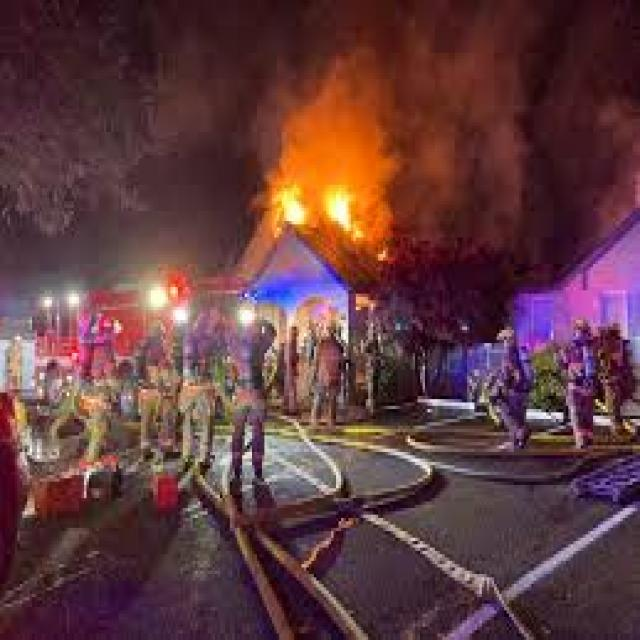fire: (269, 185, 309, 228), (324, 185, 356, 231)
smoke: (408, 3, 541, 235), (267, 56, 405, 228)
